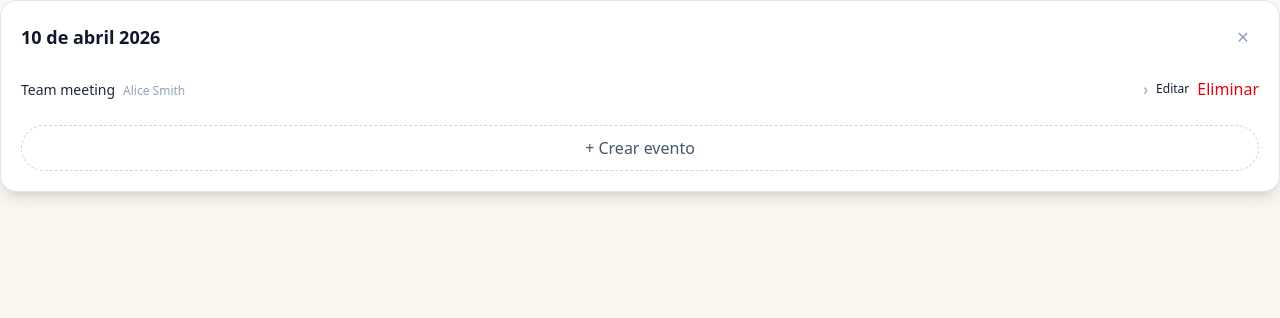
Test: DayDetailPanel › shows description, start time, and end time in expanded detail when present
The image size is (1280, 318).
Click the button named "ver detalle": [1146, 89] box [1143,77,1148,101]
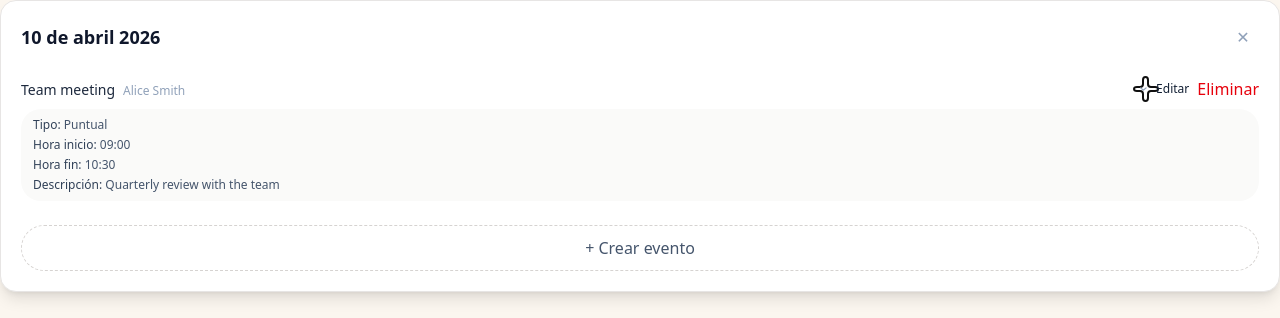
Now the text "09:00" is shown, box [100,136,130,153]
Now the text "10:30" is shown, box [85,156,115,173]
Now the text "Quarterly review with the team" is shown, box [105,176,280,193]
